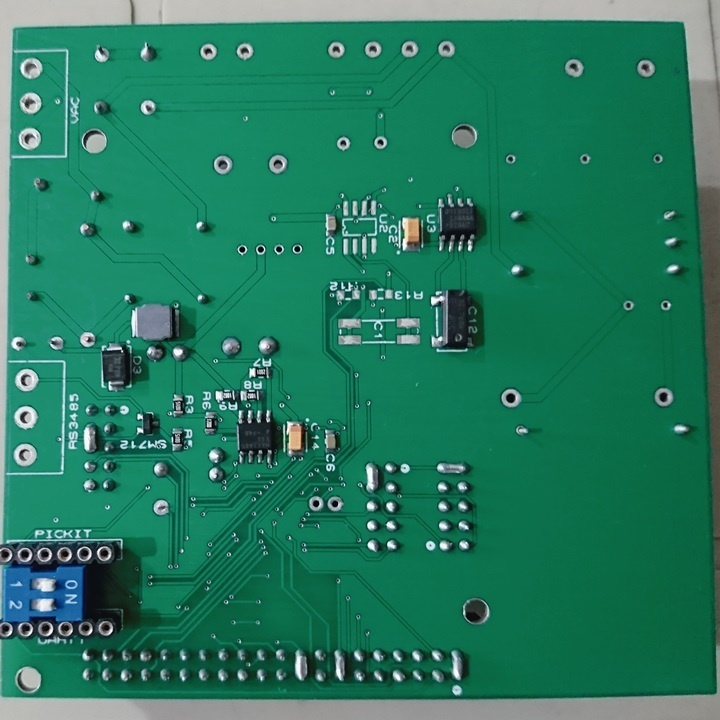F: (13, 366, 42, 395), (18, 90, 45, 119), (12, 403, 39, 431), (17, 55, 46, 81), (10, 441, 38, 467), (16, 126, 44, 152), (267, 152, 292, 177), (498, 385, 521, 410), (651, 385, 676, 408), (397, 36, 419, 62), (212, 154, 235, 178), (562, 58, 587, 80), (233, 41, 256, 63), (137, 96, 159, 118), (636, 57, 657, 80), (199, 41, 219, 63), (437, 38, 456, 60), (7, 335, 28, 354), (325, 39, 344, 59), (363, 40, 383, 59), (93, 44, 112, 64), (152, 495, 169, 517), (47, 334, 67, 352), (307, 494, 325, 514), (326, 496, 344, 515), (77, 332, 97, 348), (661, 206, 679, 222), (515, 421, 530, 440), (373, 134, 389, 150), (335, 134, 350, 151), (253, 242, 267, 258), (659, 299, 673, 314), (236, 242, 250, 256), (652, 152, 665, 166), (623, 299, 637, 312), (290, 243, 303, 256), (579, 152, 591, 165), (504, 153, 517, 165), (273, 243, 285, 256)
P: (433, 458, 471, 478), (449, 645, 467, 685), (293, 643, 309, 685), (331, 646, 349, 683), (362, 460, 380, 495), (81, 420, 99, 455)
